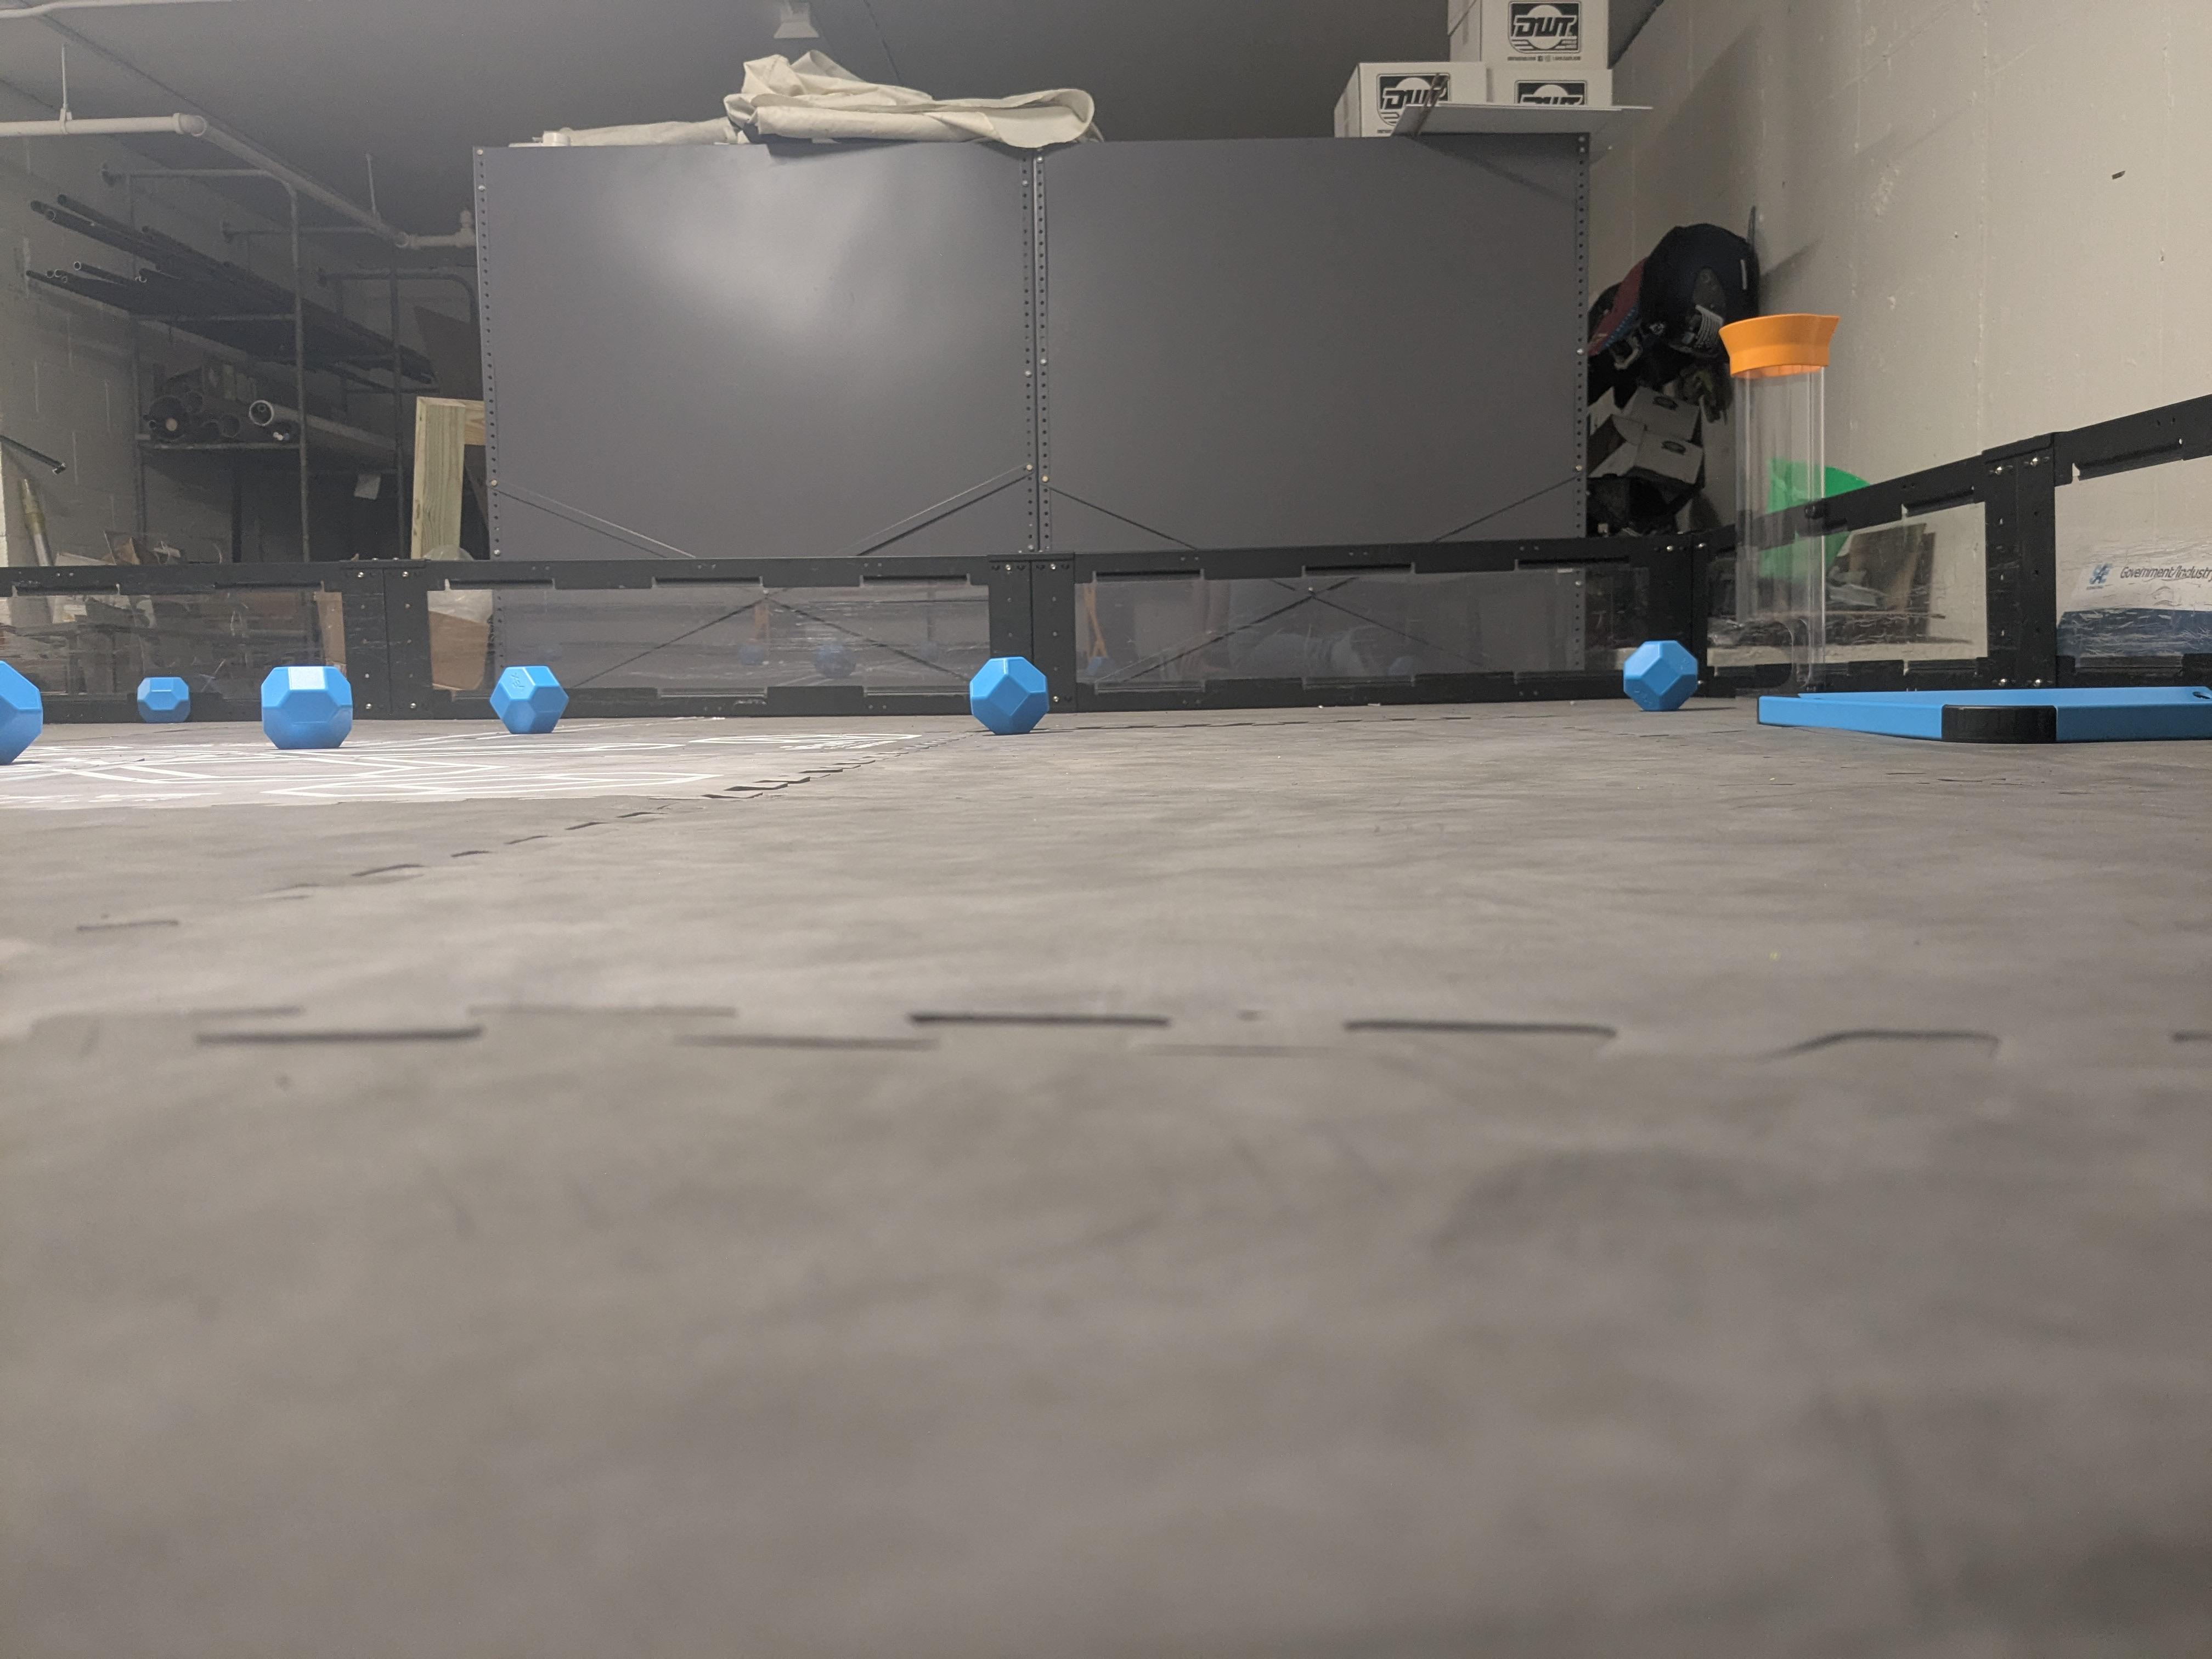Vex-Pieces-BLUE: (261, 666, 355, 744), (972, 659, 1050, 734), (1625, 640, 1696, 713), (491, 666, 563, 734), (3, 662, 40, 765), (134, 676, 190, 723)
